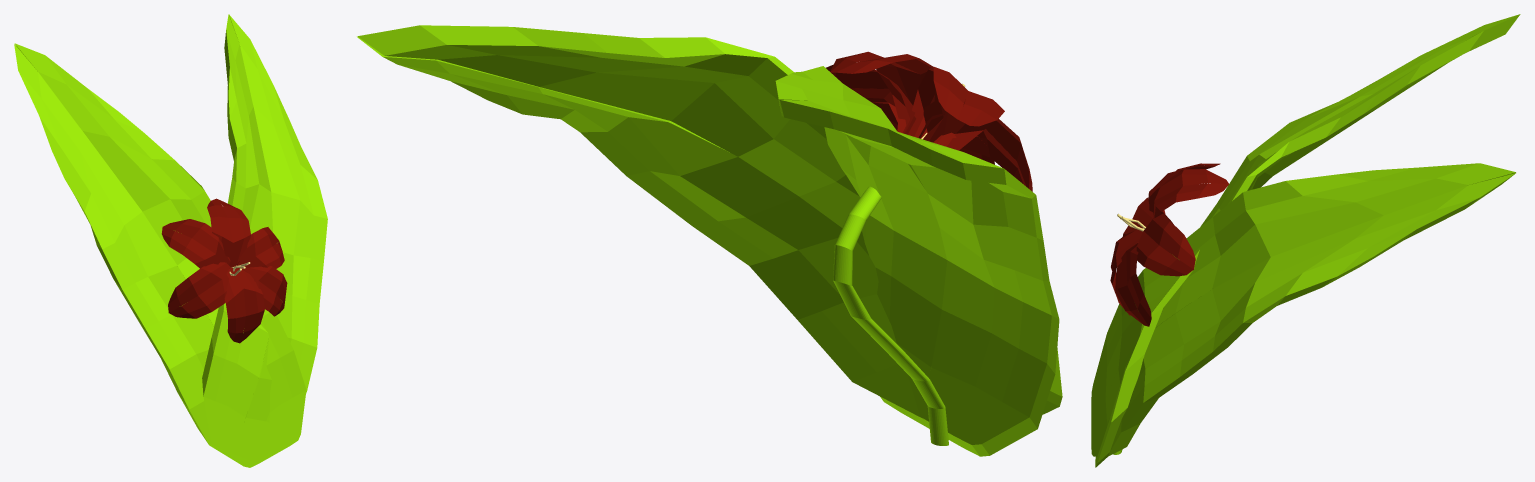
Rendered from RedFlower.fbx.
3 views of the same model, side by side, from view 1: azimuth 30°, elevation 25°; view 2: azimuth 150°, elevation 25°; view 3: azimuth 270°, elevation 25° (orthographic). The views are drawn at different scales.
Visible parts, largest first — view 1: Плоскость.006, Плоскость.007, Плоскость.001, Плоскость, Плоскость.002, Плоскость.003, Плоскость.004, Плоскость.005; view 2: Плоскость.007, Плоскость.006, Цилиндр.003, Плоскость.002, Плоскость.003, Плоскость.001, Плоскость.004; view 3: Плоскость.007, Плоскость.006, Плоскость.004, Плоскость.003, Плоскость.005, Плоскость, Плоскость.002, Плоскость.001.
Part boxes in pixels (left/top/right/bottom): Плоскость.006: left=14, top=43, right=306, bottom=467; Плоскость.007: left=202, top=14, right=327, bottom=462; Плоскость.001: left=168, top=262, right=230, bottom=318; Плоскость: left=224, top=267, right=264, bottom=343; Плоскость.002: left=161, top=219, right=230, bottom=268; Плоскость.003: left=207, top=198, right=250, bottom=266; Плоскость.004: left=231, top=227, right=284, bottom=268; Плоскость.005: left=236, top=266, right=287, bottom=316; Плоскость.007: left=357, top=25, right=1062, bottom=418; Плоскость.006: left=775, top=66, right=1059, bottom=456; Цилиндр.003: left=833, top=186, right=948, bottom=445; Плоскость.002: left=908, top=66, right=1004, bottom=150; Плоскость.003: left=830, top=51, right=947, bottom=142; Плоскость.001: left=918, top=113, right=1032, bottom=191; Плоскость.004: left=826, top=64, right=916, bottom=134; Плоскость.007: left=1091, top=163, right=1515, bottom=456; Плоскость.006: left=1095, top=14, right=1520, bottom=467; Плоскость.004: left=1136, top=212, right=1195, bottom=276; Плоскость.003: left=1153, top=169, right=1228, bottom=217; Плоскость.005: left=1115, top=243, right=1151, bottom=326; Плоскость: left=1110, top=226, right=1146, bottom=315; Плоскость.002: left=1148, top=163, right=1220, bottom=214; Плоскость.001: left=1123, top=197, right=1153, bottom=236.
Bounding box in the file's own units: 721 × 907 × 877.
